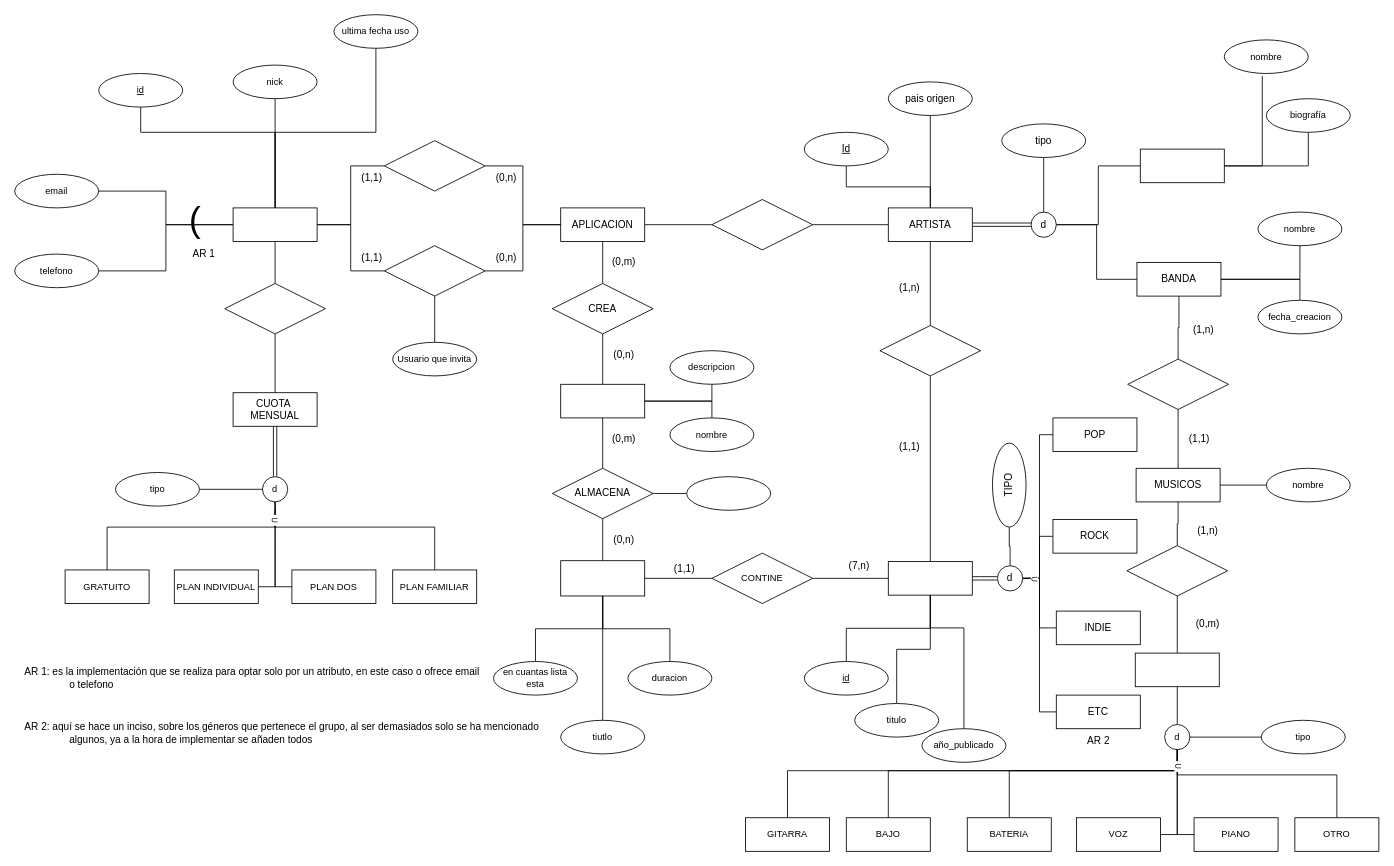
Image size: 1394x866. Some labels were removed from this diagram. Here are the shapes that lost their labels. From the top down, the centre of each, then its label:
At point 434,165: "REGISTRA".
At point 1181,165: "SOLITA".
At point 274,224: "USUARIO".
At point 762,224: "dispone".
At point 434,270: "ES_INVITADO".
At point 275,308: "PAGA".
At point 930,350: "PUBLICARLO".
At point 602,400: "PLAYLIST".
At point 1177,384: "FORMADA".
At point 728,493: "fecha añadida".
At point 602,578: "CANCIONES".
At point 929,578: "ALBUM".
At point 1177,570: "TOCAN".
At point 1176,669: "INSTRUMENTOS".
